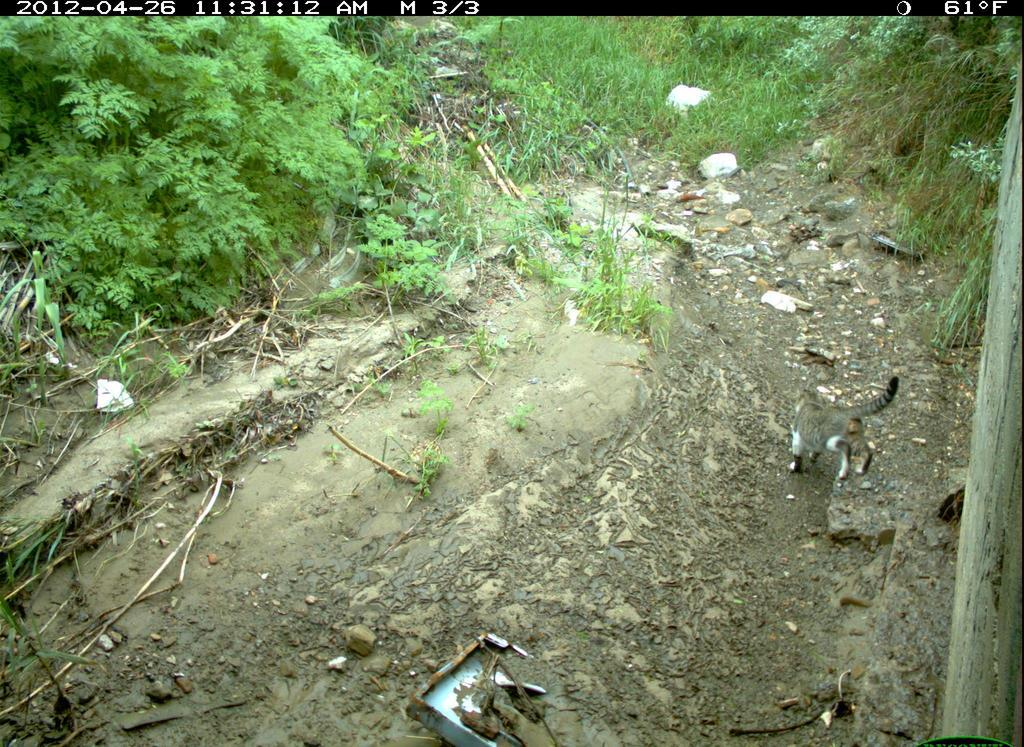cat: (788, 369, 905, 491)
